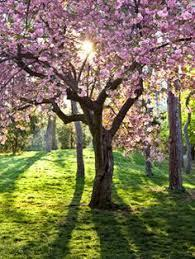tree: (1, 1, 194, 207)
